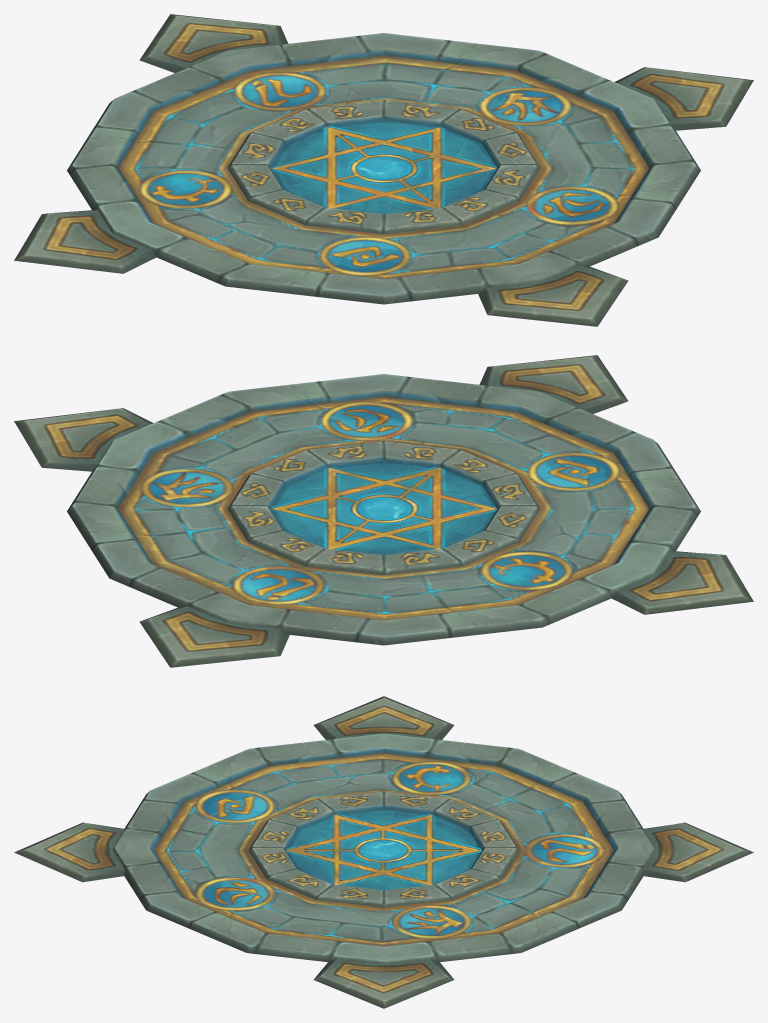
The model's file is JTZD_XJ_01.FBX.
3 renders of one model, top to bottom at view 1: azimuth 30°, elevation 25°; view 2: azimuth 150°, elevation 25°; view 3: azimuth 270°, elevation 25°, orthographic. The views are drawn at different scales.
Visible parts, largest first — view 1: Object011; view 2: Object011; view 3: Object011.
Boxes of the visible parts, x1,y1,x2,y2 form: Object011: [14, 14, 753, 326]; Object011: [14, 355, 753, 667]; Object011: [14, 696, 753, 1008].
Size of the model in its own units: 433 by 3.29 by 433.
